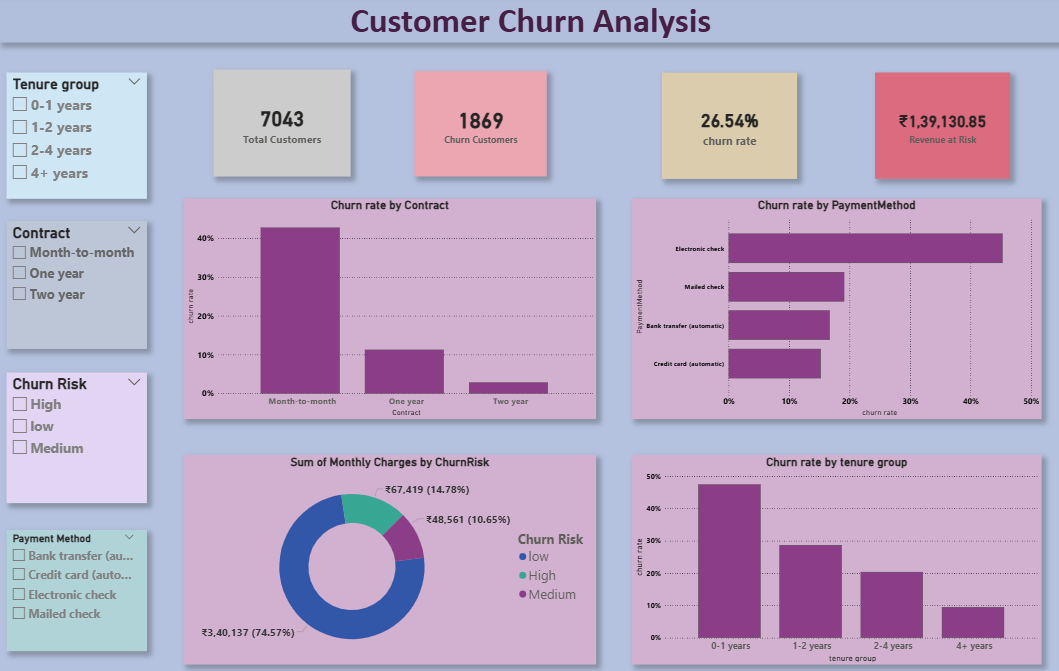

Layout of this report page (visuals, bound fields, positions):
{"tool":"powerbi","page":{"name":"Page 1","canvas":[2200,1400],"ordinal":0},"visuals":[{"type":"card","title":"Total Customers","fields":{"Values":["2  Telco_cleaned.total customers"]},"box":[441.7,152.7,282.6,220.9],"z":0},{"type":"card","fields":{"Values":["2  Telco_cleaned.Churn Customers"]},"box":[857.5,155.9,272.8,217.6],"z":1000},{"type":"card","fields":{"Values":["2  Telco_cleaned.churn rate"]},"box":[1367,157.7,278.4,219.6],"z":2000},{"type":"card","fields":{"Values":["2  Telco_cleaned.revenue_at_risk"]},"box":[1806.2,157.7,278.4,219.6],"z":3000},{"type":"clusteredColumnChart","title":"Churn rate by Contract","fields":{"Category":["2  Telco_cleaned.Contract"],"Y":["2  Telco_cleaned.churn rate"]},"box":[380,419,851,454.7],"z":4000},{"type":"clusteredBarChart","title":"Churn rate by PaymentMethod","fields":{"Category":["2  Telco_cleaned.PaymentMethod"],"Y":["2  Telco_cleaned.churn rate"]},"box":[1305.7,419,844.5,454.7],"z":5000},{"type":"clusteredColumnChart","title":"Churn rate by tenure group","fields":{"Category":["2  Telco_cleaned.tenure group"],"Y":["2  Telco_cleaned.churn rate"]},"box":[1305.7,945.2,844.5,432],"z":6000},{"type":"donutChart","title":"Sum of Monthly Charges by ChurnRisk","fields":{"Category":["2  Telco_cleaned.ChurnRisk"],"Y":["Sum(2  Telco_cleaned.MonthlyCharges)"]},"box":[380,945.2,851,432],"z":7000},{"type":"slicer","fields":{"Values":["2  Telco_cleaned.Contract"]},"box":[16.2,464.5,289.1,263.1],"z":8000},{"type":"slicer","fields":{"Values":["2  Telco_cleaned.PaymentMethod"]},"box":[16.2,1101.1,289.1,250.1],"z":9000},{"type":"slicer","fields":{"Values":["2  Telco_cleaned.ChurnRisk"]},"box":[16.2,776.3,289.1,269.6],"z":10000},{"type":"slicer","fields":{"Values":["2  Telco_cleaned.tenure group"]},"box":[16.2,159.2,289.1,259.8],"z":11000},{"type":"textbox","box":[0,0,2199,95.9],"z":11001}]}

Visuals, with their boxes in screenshot pixels (x1, y1, x2, y2), scaled from the page's 2200x1400 canvas onto the 1059x671 screenshot:
"Total Customers" card: <region>213, 73, 349, 179</region>
card - 2  Telco_cleaned.Churn Customers: <region>413, 75, 544, 179</region>
card - 2  Telco_cleaned.churn rate: <region>658, 76, 792, 181</region>
card - 2  Telco_cleaned.revenue_at_risk: <region>869, 76, 1003, 181</region>
"Churn rate by Contract" clusteredColumnChart: <region>183, 201, 593, 419</region>
"Churn rate by PaymentMethod" clusteredBarChart: <region>629, 201, 1035, 419</region>
"Churn rate by tenure group" clusteredColumnChart: <region>629, 453, 1035, 660</region>
"Sum of Monthly Charges by ChurnRisk" donutChart: <region>183, 453, 593, 660</region>
slicer - 2  Telco_cleaned.Contract: <region>8, 223, 147, 349</region>
slicer - 2  Telco_cleaned.PaymentMethod: <region>8, 528, 147, 648</region>
slicer - 2  Telco_cleaned.ChurnRisk: <region>8, 372, 147, 501</region>
slicer - 2  Telco_cleaned.tenure group: <region>8, 76, 147, 201</region>
textbox: <region>0, 0, 1058, 46</region>
